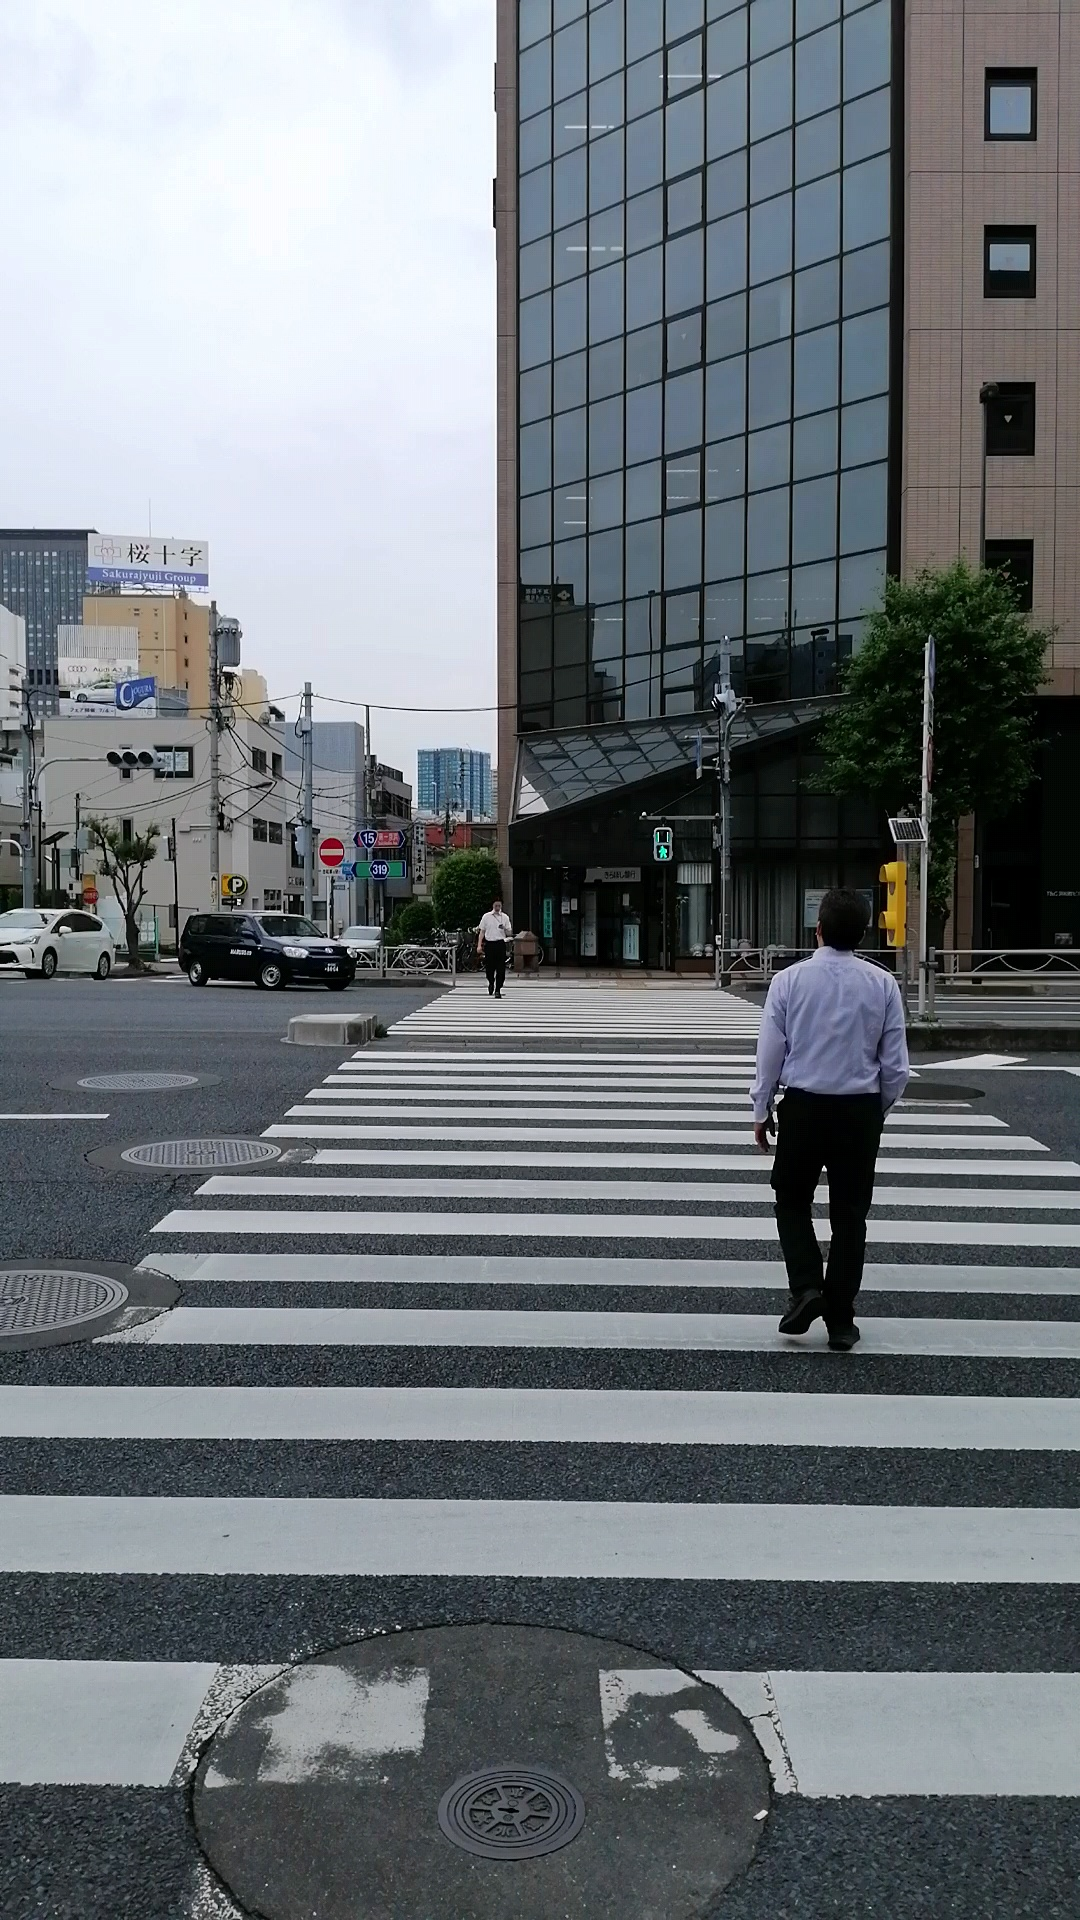green: (651, 827, 673, 862)
